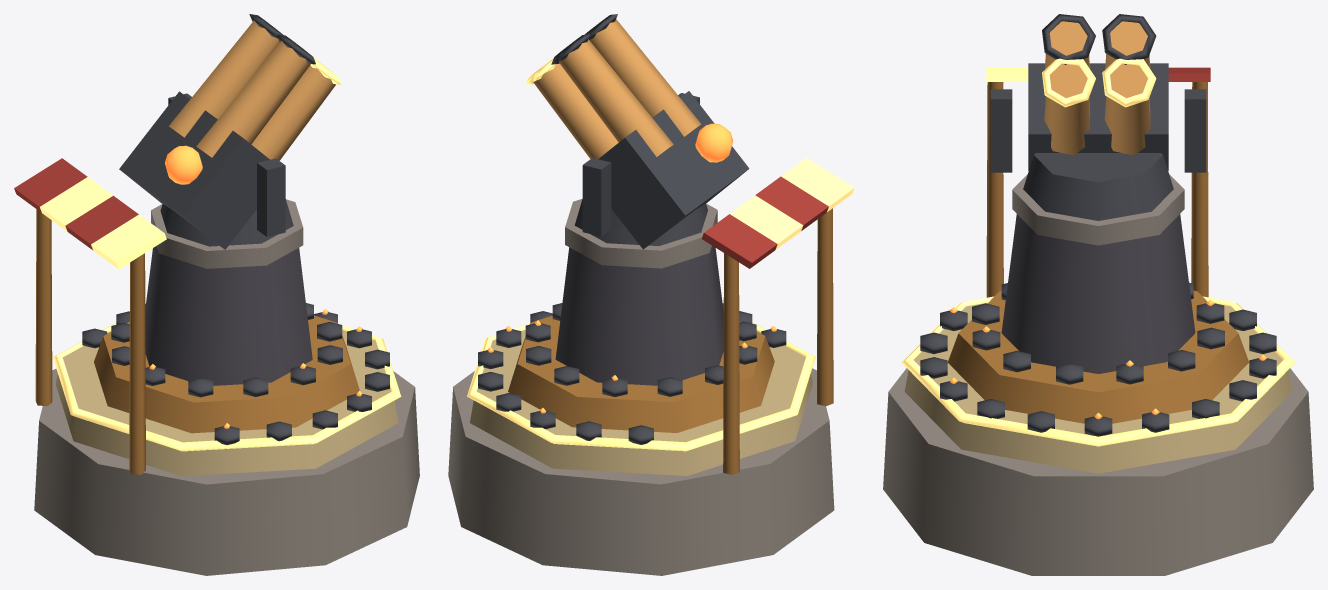
The model's file is tower_mine_carpet.glb.
3 views of the same model, side by side, from view 1: azimuth 30°, elevation 25°; view 2: azimuth 150°, elevation 25°; view 3: azimuth 270°, elevation 25° (orthographic). The views are drawn at different scales.
Visible parts, largest first — view 1: base, launcher_drum, stall_tier_low, stall_tier_high, launcher_breech, launch_tube_2, launch_tube_3, stall_trim, launcher_drum_cap, awning_post_l, launch_tube_0, awning_post_r (+7 smaller); view 2: base, launcher_drum, stall_tier_low, stall_tier_high, launcher_breech, launch_tube_3, launch_tube_2, stall_trim, launcher_drum_cap, awning_post_r, launch_tube_1, awning_post_l (+7 smaller); view 3: base, launcher_drum, stall_tier_high, stall_tier_low, turret_yoke, launcher_breech, stall_trim, launcher_drum_cap, launch_tube_1, launch_tube_0, awning_post_l, awning_post_r (+10 smaller).
Part boxes in pixels (x1,y1,x2,y2): base: [34, 369, 419, 575]; launcher_drum: [145, 246, 312, 385]; stall_tier_low: [55, 330, 398, 476]; stall_tier_high: [94, 315, 359, 433]; launcher_breech: [119, 91, 269, 249]; launch_tube_2: [196, 40, 310, 157]; launch_tube_3: [169, 20, 279, 137]; stall_trim: [53, 322, 401, 451]; launcher_drum_cap: [151, 199, 303, 268]; awning_post_l: [129, 253, 145, 474]; launch_tube_0: [251, 65, 335, 160]; awning_post_r: [35, 209, 52, 405]; base: [448, 368, 834, 575]; launcher_drum: [555, 245, 723, 385]; stall_tier_low: [470, 330, 812, 475]; stall_tier_high: [508, 315, 774, 432]; launcher_breech: [598, 91, 749, 249]; launch_tube_3: [559, 39, 673, 156]; launch_tube_2: [589, 19, 701, 136]; stall_trim: [467, 322, 815, 451]; launcher_drum_cap: [565, 198, 717, 268]; awning_post_r: [723, 253, 739, 474]; launch_tube_1: [533, 63, 618, 158]; awning_post_l: [817, 208, 833, 406]; base: [883, 368, 1313, 575]; launcher_drum: [1001, 214, 1195, 373]; stall_tier_high: [947, 290, 1249, 423]; stall_tier_low: [904, 302, 1292, 473]; turret_yoke: [1023, 153, 1173, 220]; launcher_breech: [1028, 63, 1168, 170]; stall_trim: [901, 296, 1295, 446]; launcher_drum_cap: [1012, 174, 1184, 245]; launch_tube_1: [1104, 63, 1150, 155]; launch_tube_0: [1044, 64, 1089, 155]; awning_post_l: [986, 82, 1003, 297]; awning_post_r: [1191, 82, 1208, 297].
Bounding box in the file's own units: 0.3804 × 0.5095 × 0.4.
